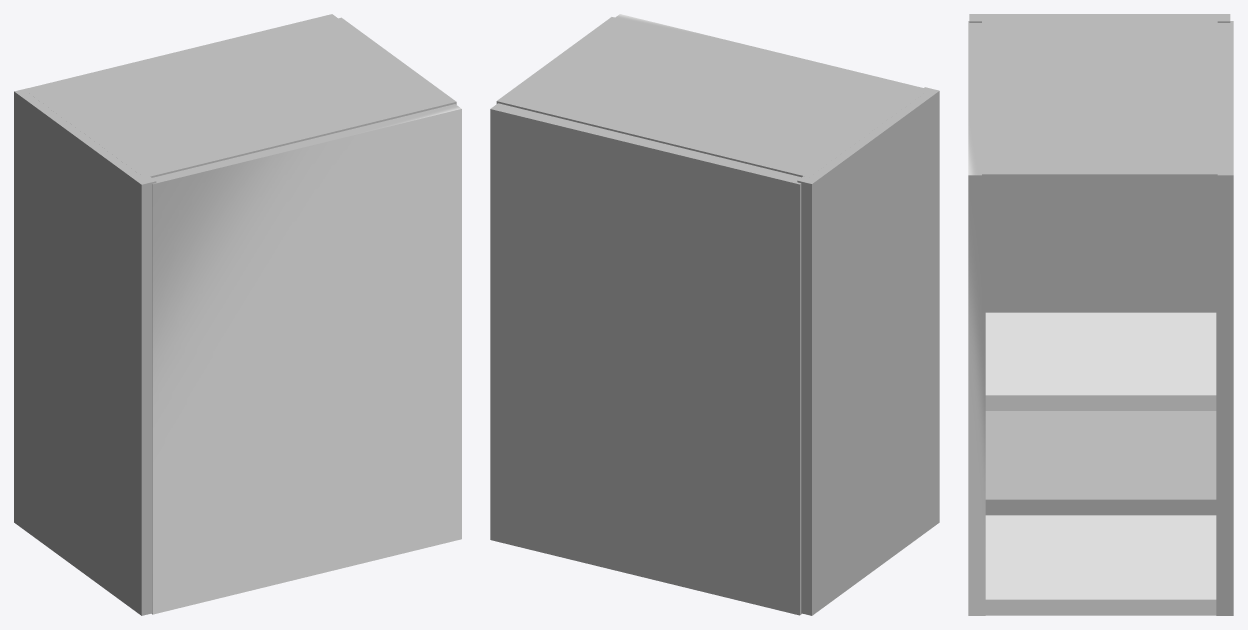
Rendered from szafkawet.glb.
3 renders of one model, left to right at view 1: azimuth 30°, elevation 25°; view 2: azimuth 150°, elevation 25°; view 3: azimuth 270°, elevation 25°, orthographic. The views are drawn at different scales.
Visible parts, largest first — view 1: Cube.003, Cube.001, Cube.007, Cube.002; view 2: Cube.002, Cube.001, Cube.007, Cube.003; view 3: Cube.007, Cube.006, Cube.005, Cube.004, Cube.002, Cube.003, Cube.001.
Boxes of the visible parts, x1,y1,x2,y2 form: Cube.003: (152,104,461,614); Cube.001: (14,88,156,615); Cube.007: (29,17,456,177); Cube.002: (29,14,337,92); Cube.002: (490,103,801,615); Cube.001: (797,87,939,615); Cube.007: (496,17,923,177); Cube.003: (615,14,923,91); Cube.007: (982,18,1217,312); Cube.006: (985,411,1216,515); Cube.005: (985,515,1216,615); Cube.004: (985,312,1216,410); Cube.002: (1216,21,1233,615); Cube.003: (968,21,985,615); Cube.001: (969,14,1230,22).
Bounding box in the file's own units: 2.94 × 3.78 × 2.05.
7 materials, 7 textured.
